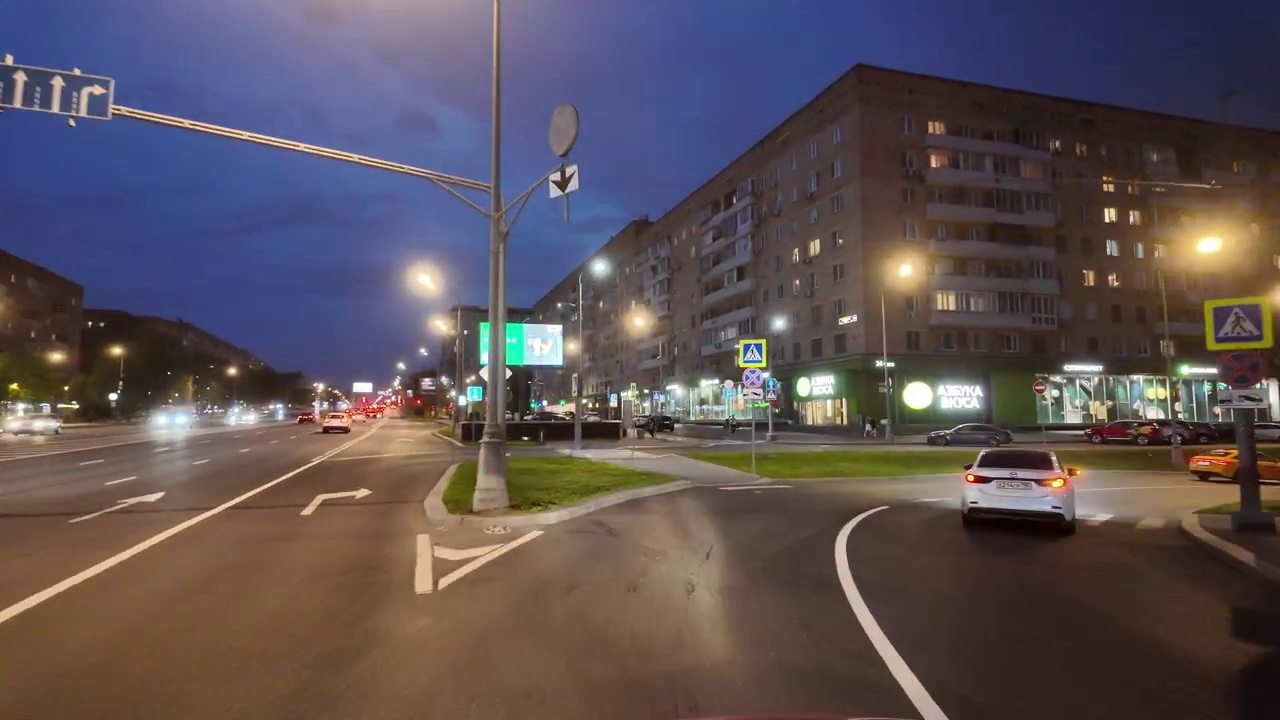acesa: (1187, 231, 1230, 262), (885, 255, 924, 288), (410, 266, 441, 295), (623, 307, 653, 336), (552, 107, 575, 140), (587, 255, 614, 281), (432, 314, 456, 337), (768, 313, 790, 334)
